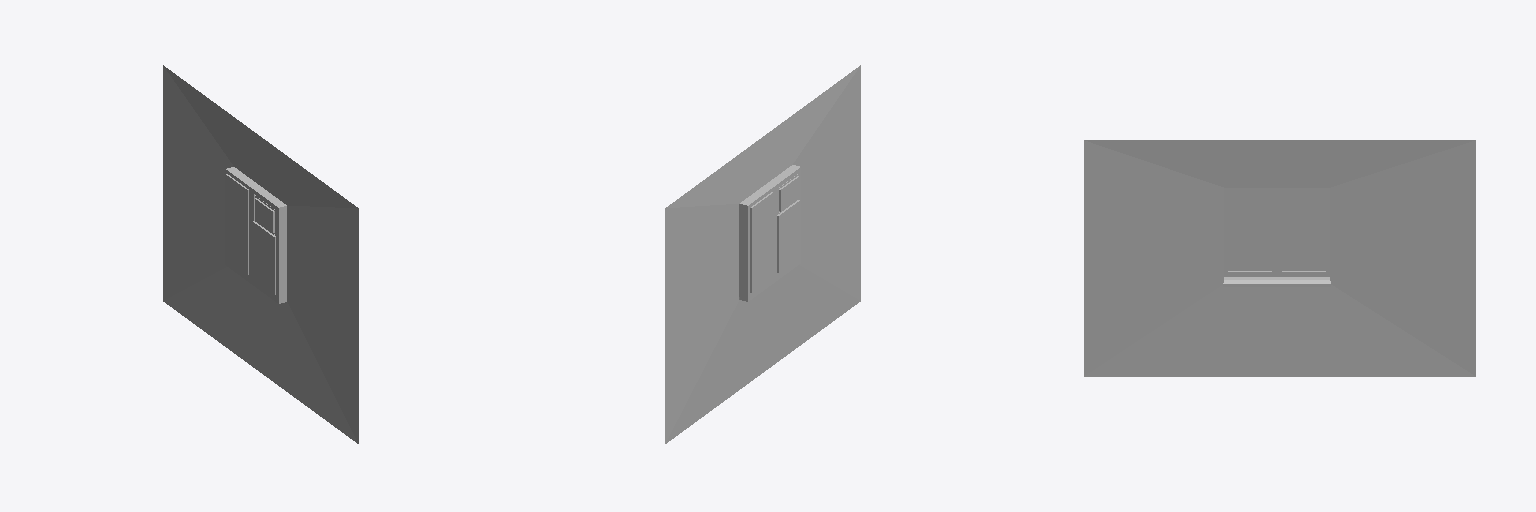
The model's file is wallWindow_panel1.obj.
The picture shows the model from 3 angles: view 1: azimuth 30°, elevation 25°; view 2: azimuth 150°, elevation 25°; view 3: azimuth 270°, elevation 25°; orthographic projection.
Visible parts, largest first — view 1: WallWindow1_low_Wood_Wall_Double_Cross_01; view 2: WallWindow1_low_Wood_Wall_Double_Cross_01; view 3: WallWindow1_low_Wood_Wall_Double_Cross_01.
Boxes of the visible parts, box(x1,y1,x2,y2) form: WallWindow1_low_Wood_Wall_Double_Cross_01: box(163, 65, 358, 443); WallWindow1_low_Wood_Wall_Double_Cross_01: box(665, 65, 860, 443); WallWindow1_low_Wood_Wall_Double_Cross_01: box(1084, 140, 1475, 376).
Bounding box in the file's own units: 0.1263 × 2.01 × 3.03.